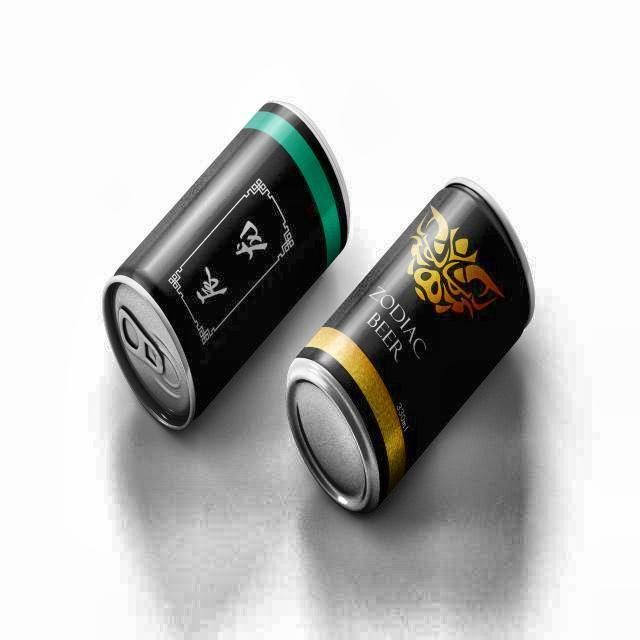litter: (280, 171, 543, 521), (95, 88, 357, 438)
